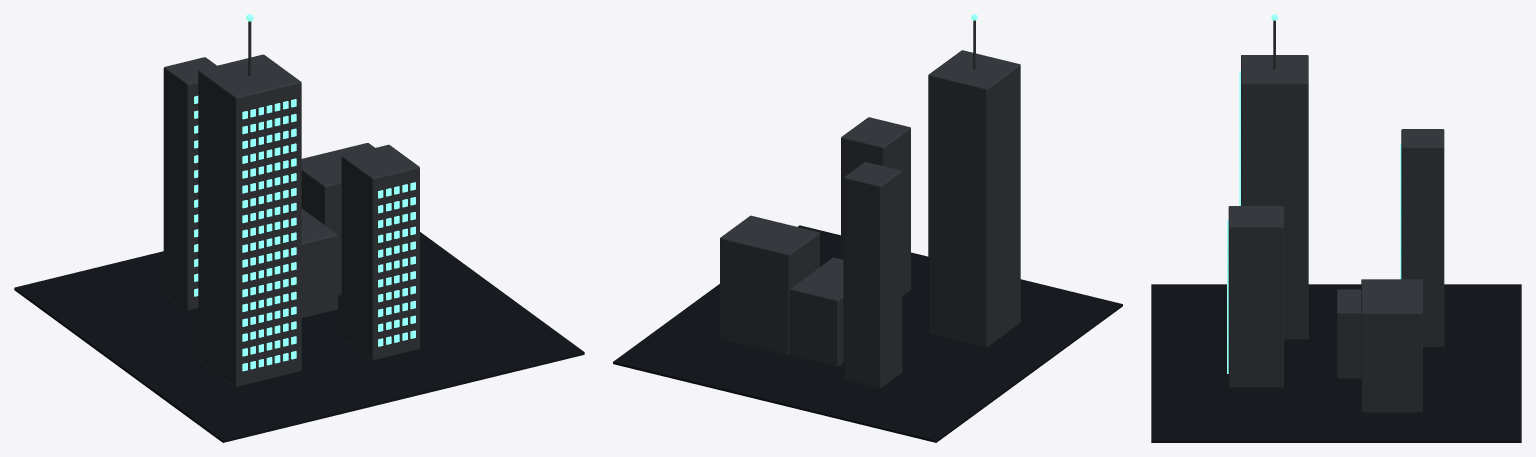
The model's file is city-block.glb.
The picture shows the model from 3 angles, left to right: view 1: azimuth 30°, elevation 25°; view 2: azimuth 150°, elevation 25°; view 3: azimuth 270°, elevation 25°; orthographic projection. The views are drawn at different scales.
Visible parts, largest first — view 1: GEO_EXPORT_01_chassis, GEO_EXPORT_00_cavity, GEO_EXPORT_02_led; view 2: GEO_EXPORT_01_chassis, GEO_EXPORT_00_cavity; view 3: GEO_EXPORT_01_chassis, GEO_EXPORT_00_cavity, GEO_EXPORT_02_led.
Boxes of the visible parts, bbox=[...] form: GEO_EXPORT_01_chassis: bbox=[163, 21, 419, 387]; GEO_EXPORT_00_cavity: bbox=[14, 232, 584, 442]; GEO_EXPORT_02_led: bbox=[194, 14, 415, 371]; GEO_EXPORT_01_chassis: bbox=[720, 20, 1020, 388]; GEO_EXPORT_00_cavity: bbox=[613, 225, 1122, 442]; GEO_EXPORT_01_chassis: bbox=[1228, 20, 1444, 412]; GEO_EXPORT_00_cavity: bbox=[1151, 284, 1521, 442]; GEO_EXPORT_02_led: bbox=[1227, 14, 1401, 373].
Bounding box in the file's own units: 60 × 56.15 × 60.
